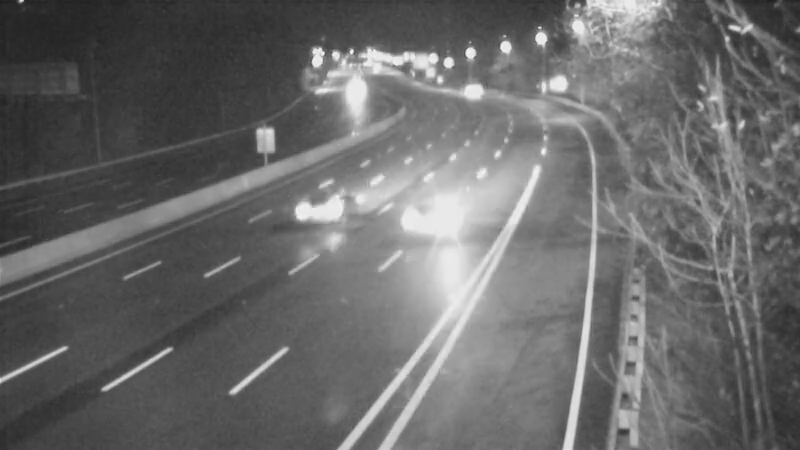vehicle: (406, 179, 486, 259), (291, 162, 371, 242), (444, 65, 494, 115), (327, 67, 377, 117)
